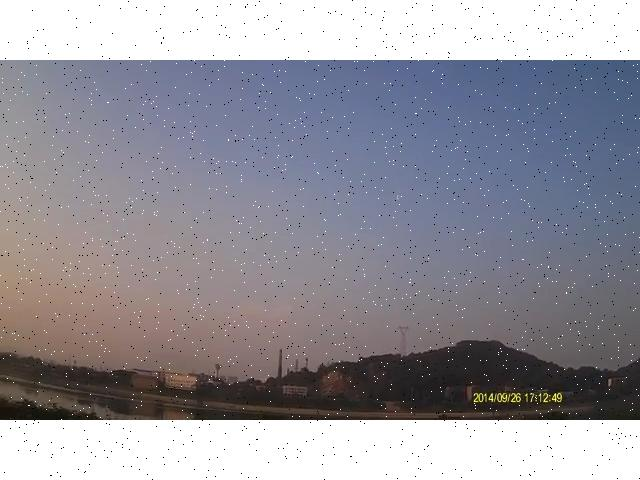Anti-Drone: (388, 189, 410, 205)
